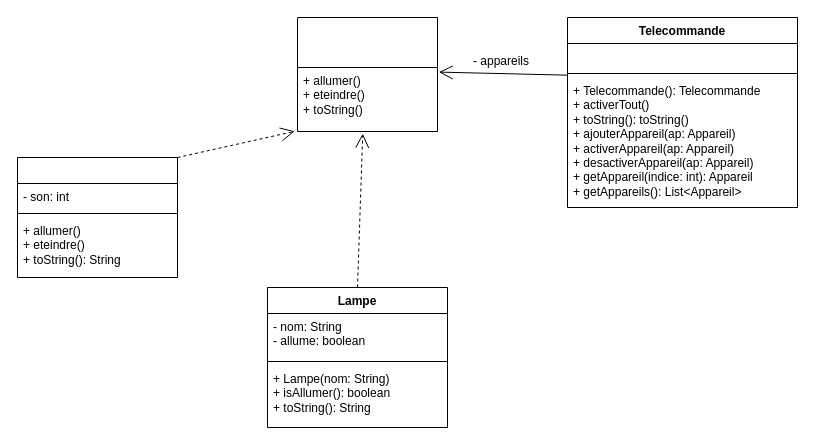
Image size: 815x448. Some labels were removed from this diagram. The shapes that lost their labels are listed below. From the top down, each one's box as (x1, y1, x2, y2) in pixels, then its label:
(296, 16, 438, 132): Appareil "Interface"
(16, 156, 178, 278): Hifi
